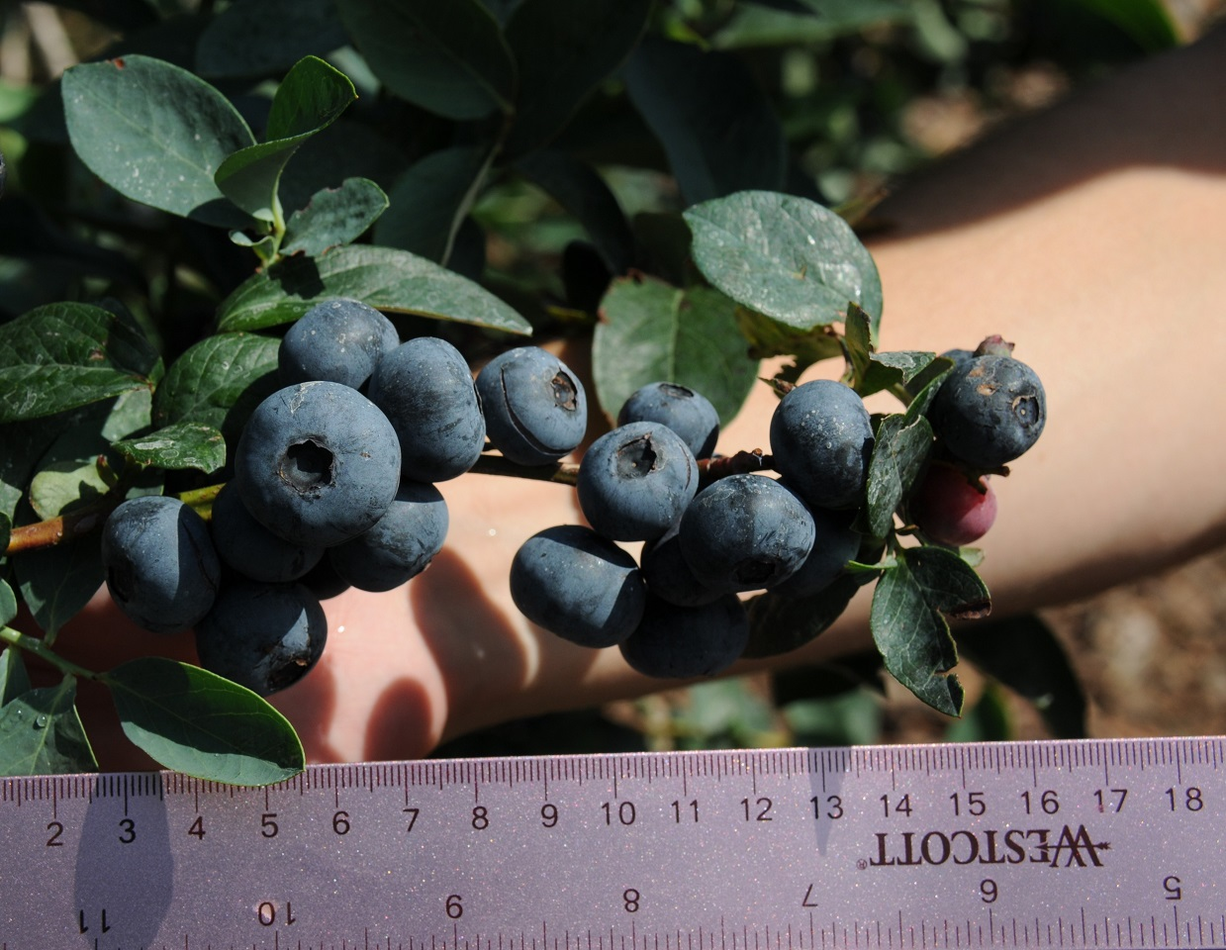Immature: (909, 467, 999, 547)
Mature: (232, 381, 402, 549), (367, 337, 486, 483), (189, 577, 328, 698), (511, 524, 646, 648), (102, 495, 223, 633), (679, 473, 816, 593), (573, 421, 700, 544), (315, 483, 449, 592), (925, 355, 1047, 472), (770, 380, 876, 514), (475, 347, 588, 468), (618, 583, 750, 680), (210, 478, 326, 584), (278, 299, 400, 398), (638, 511, 731, 608), (765, 512, 864, 600), (616, 381, 719, 459), (300, 567, 352, 601)
